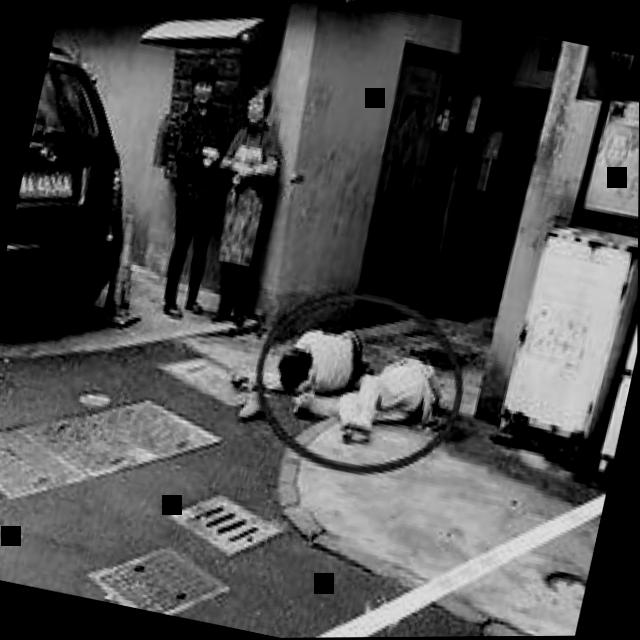Fall-Detected: (328, 319, 465, 459)
